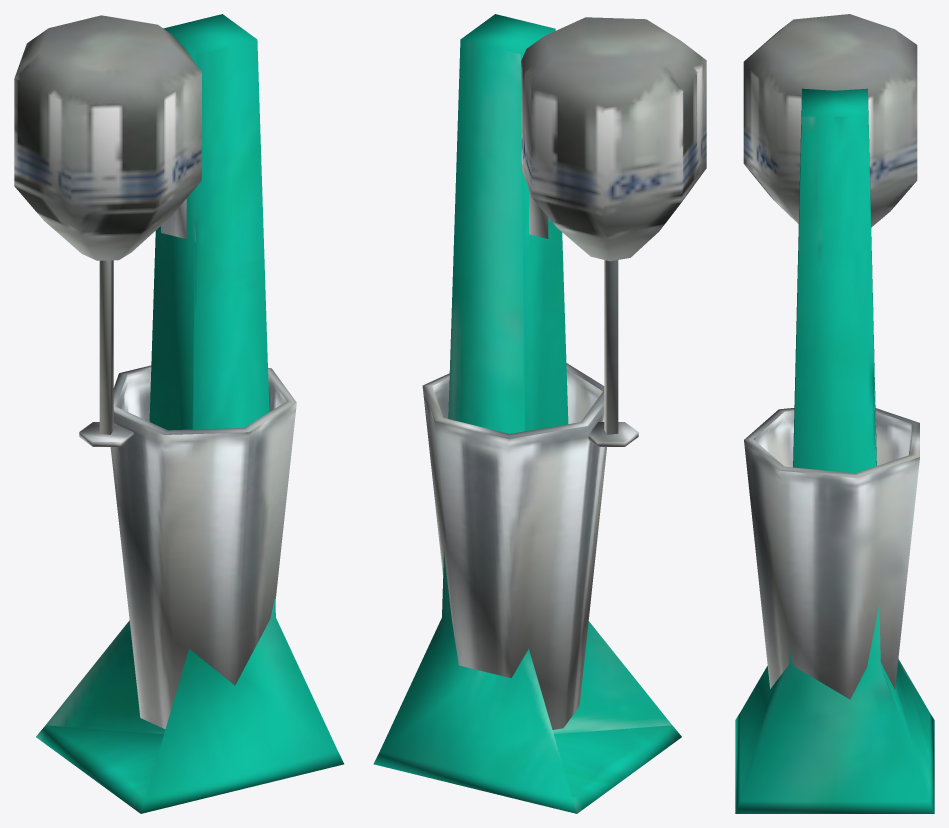
Rendered from Soda_fountain.dae.
3 renders of one model, left to right at view 1: azimuth 30°, elevation 25°; view 2: azimuth 150°, elevation 25°; view 3: azimuth 270°, elevation 25°, orthographic. The views are drawn at different scales.
Visible parts, largest first — view 1: Soda_fountain, Cup_M; view 2: Soda_fountain, Cup_M; view 3: Soda_fountain, Cup_M.
Boxes of the visible parts, x1,y1,x2,y2 form: Soda_fountain: (14, 14, 343, 813); Cup_M: (110, 365, 296, 729); Soda_fountain: (373, 14, 706, 813); Cup_M: (422, 363, 606, 729); Soda_fountain: (735, 14, 934, 813); Cup_M: (744, 408, 919, 699).
Size of the model in its own units: 0.2327 by 0.1589 by 0.6052.
1 material, 1 textured.
